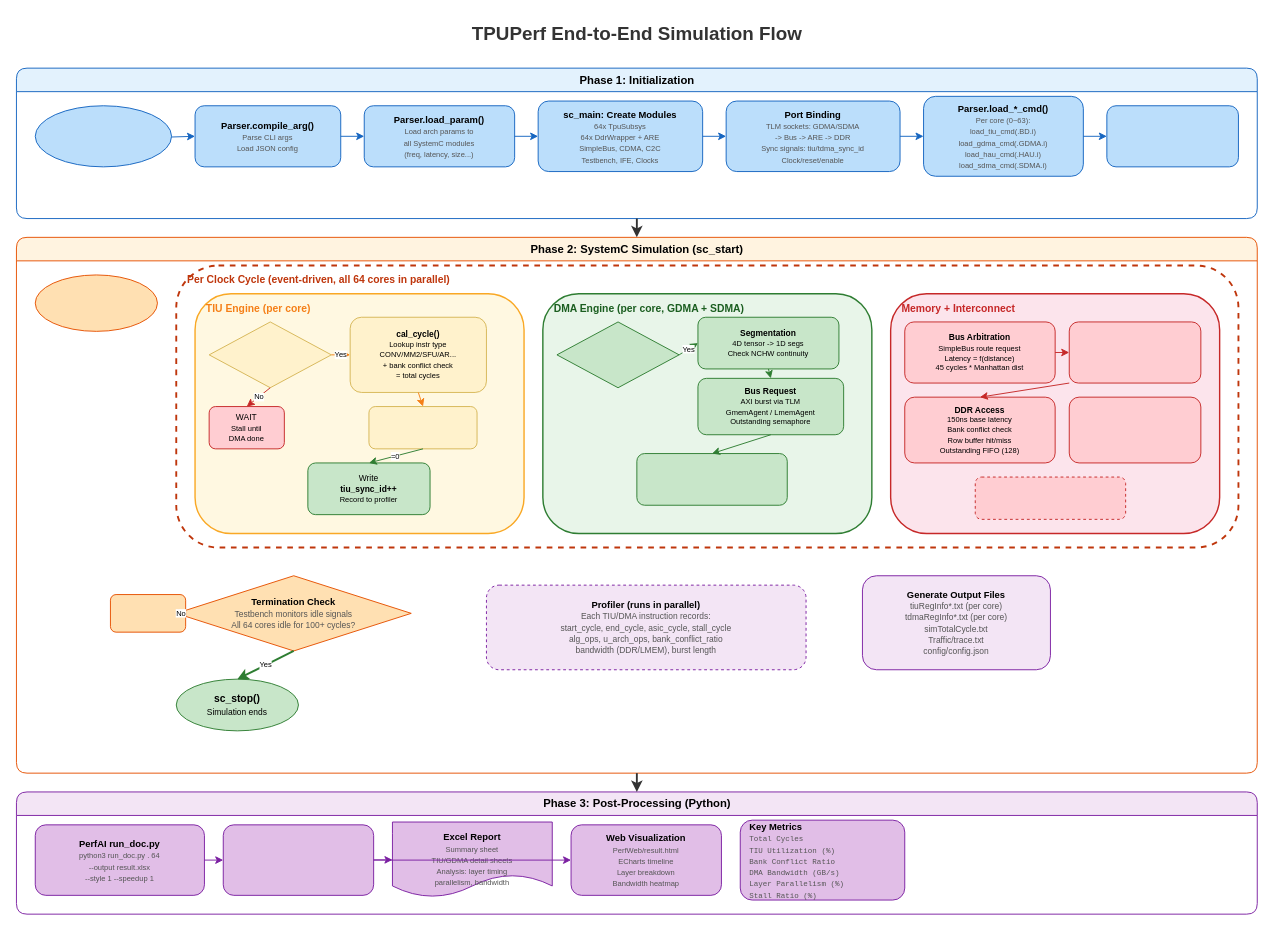
This 1274x931 diagram has some shape labels left out. The centre of each missing label's shape, as x and y in pixels:
"ARE Routing Address decode Interleave mapping 3 cycle pipeline" belongs at (1134,352).
"CDMA (if multi-chip) Credit flow control C2C link transfer" belongs at (1050,497).
"Check dep: cmd.cmd_id_dep <= tdma_sync_id?" belongs at (269,354).
"Check dep: cmd.cmd_id_dep <= tiu_sync_id?" belongs at (617,354).
"CLI Entry ./sg2262_top -c config.json or --tiuBuf/--dmaBuf" belongs at (103,136).
"Continue next cycle" belongs at (148,613).
"cycle_count-- Each clock tick decrement counter" belongs at (422,427).
"end_of_elaboration() Init profiler Validate config" belongs at (1172,136).
"Layer Mapping global.profile maps instructions to layers (QKV, FFN, etc.)" belongs at (298,859).
"LMEM Access 29ns base latency 16 banks, conflict detection" belongs at (1134,429).
"Response + Complete ROB ordered completion tdma_sync_id++" belongs at (711,479).
"sc_start() SystemC kernel begins event loop" belongs at (95,302).
